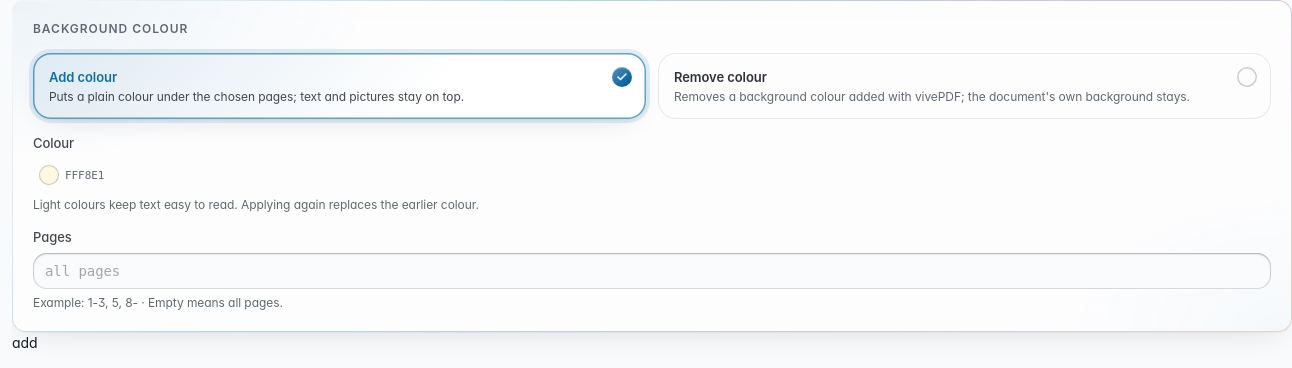
Test: BackgroundTab › keeps the typed page range
Type "2-4" into the field with placeholder "all pages". click: (652, 271)
box: 33,253 -> 1271,289
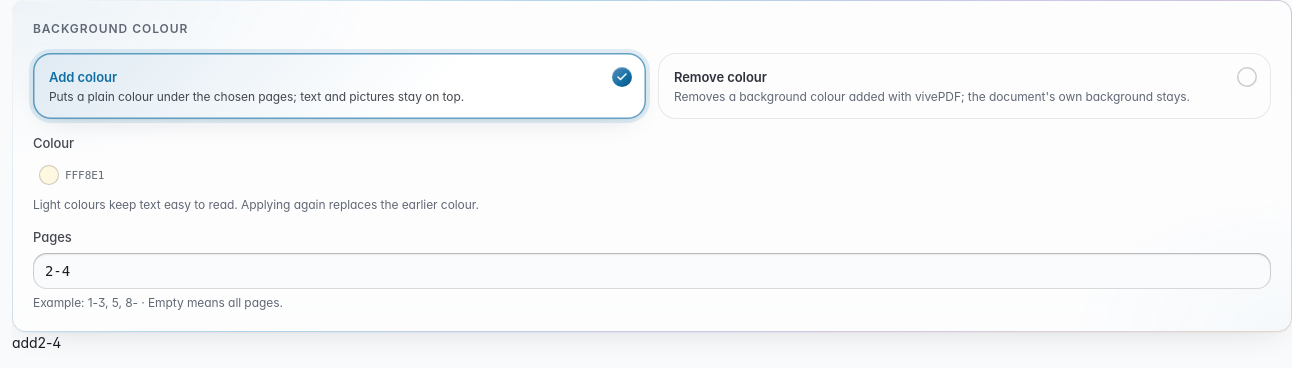
Now the text with test id "pages" reads "2-4", box 38,334 -> 61,351
